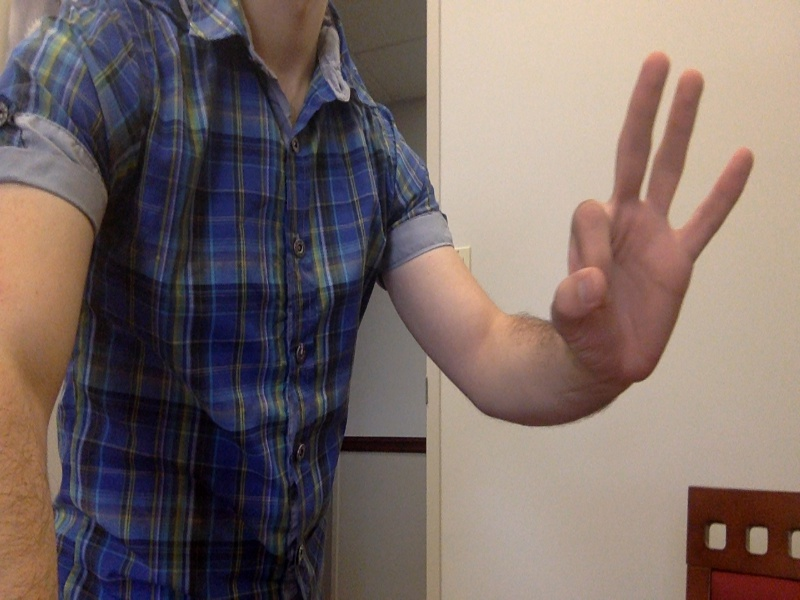3-hand: (563, 51, 757, 394)
